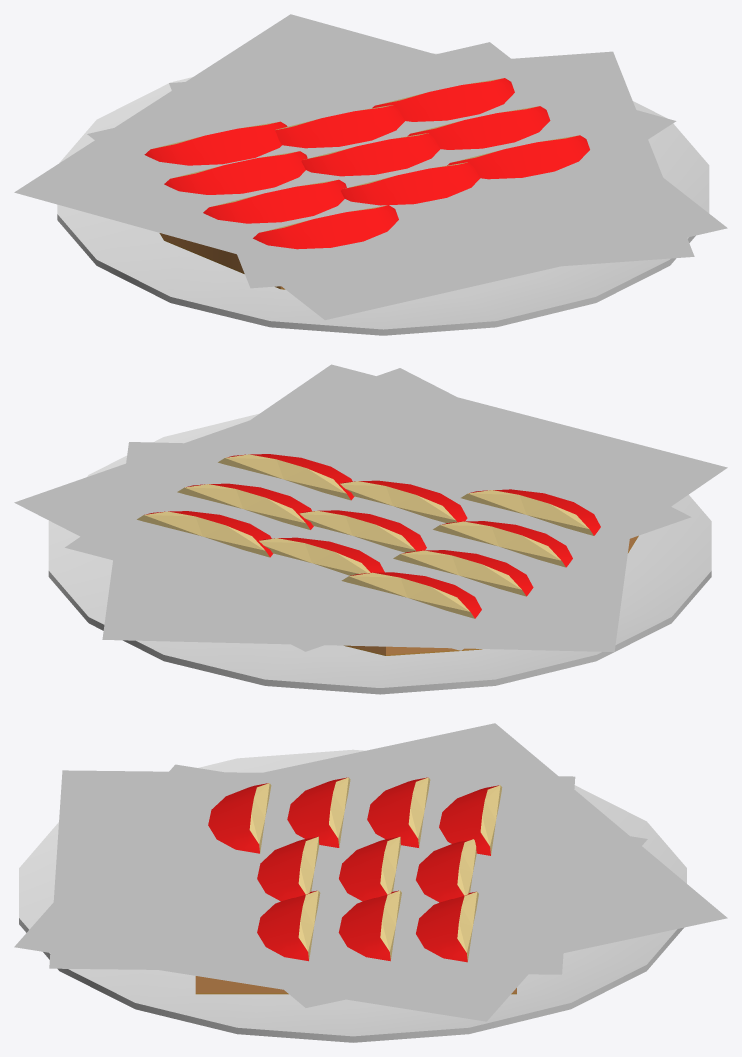
Rendered from sand2.FBX.
The picture shows the model from 3 angles, top to bottom: view 1: azimuth 30°, elevation 25°; view 2: azimuth 150°, elevation 25°; view 3: azimuth 270°, elevation 25°; orthographic projection. The views are drawn at different scales.
Parts seen in each view (by area): view 1: Plane001, Cylinder001, Plane002, Plane003, Sphere004, Sphere005, Sphere006, Sphere008, Sphere009, Sphere007, Sphere010, Sphere013 (+3 smaller); view 2: Plane001, Cylinder001, Plane002, Plane003, Sphere007, Sphere004, Sphere005, Sphere006, Sphere012, Sphere013, Sphere011, Sphere008 (+3 smaller); view 3: Plane001, Cylinder001, Plane002, Plane003, Sphere004, Sphere011, Sphere013, Sphere012, Sphere005, Sphere006, Sphere007, Sphere009 (+3 smaller).
Boxes of the visible parts, box(x1,y1,x2,y2) form: Plane001: box(87, 42, 727, 320); Cylinder001: box(57, 53, 709, 335); Plane002: box(14, 14, 676, 255); Plane003: box(169, 51, 694, 288); Sphere004: box(253, 205, 398, 249); Sphere005: box(203, 179, 346, 223); Sphere006: box(164, 151, 307, 194); Sphere008: box(341, 162, 480, 205); Sphere009: box(301, 133, 440, 176); Sphere007: box(144, 121, 287, 165); Sphere010: box(275, 105, 404, 148); Sphere013: box(372, 78, 514, 121); Plane001: box(65, 364, 727, 650); Cylinder001: box(48, 414, 711, 694); Plane002: box(102, 442, 630, 651); Plane003: box(14, 368, 691, 651); Sphere007: box(341, 572, 481, 618); Sphere004: box(461, 489, 600, 535); Sphere005: box(433, 521, 572, 567); Sphere006: box(393, 550, 533, 596); Sphere012: box(177, 483, 313, 529); Sphere013: box(137, 511, 273, 557); Sphere011: box(218, 454, 354, 500); Sphere008: box(340, 480, 467, 523); Plane001: box(49, 770, 575, 974); Cylinder001: box(19, 749, 686, 1042); Plane002: box(262, 723, 727, 1007); Plane003: box(14, 764, 647, 1021); Sphere004: box(208, 783, 271, 853); Sphere011: box(257, 890, 320, 961); Sphere013: box(416, 891, 478, 962); Sphere012: box(338, 890, 401, 961); Sphere005: box(287, 777, 350, 847); Sphere006: box(367, 777, 430, 847); Sphere007: box(439, 785, 502, 855); Sphere009: box(339, 836, 400, 901).
Size of the model in its own units: 111 by 11.41 by 113.
